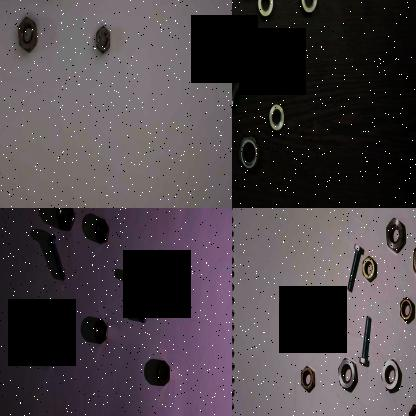Bolts: (136, 274, 158, 330), (46, 230, 66, 288), (344, 242, 364, 295), (156, 262, 177, 312), (358, 312, 374, 370), (232, 74, 246, 110), (257, 26, 266, 78), (232, 32, 239, 75)
NUTS: (14, 10, 40, 62), (37, 324, 61, 368), (235, 134, 260, 174), (380, 355, 402, 396), (384, 216, 406, 254), (337, 354, 357, 394), (267, 101, 288, 136), (95, 22, 112, 64), (52, 208, 77, 235), (92, 212, 110, 248), (92, 311, 110, 347), (156, 356, 172, 390), (328, 305, 344, 336), (361, 254, 377, 284), (298, 362, 314, 392), (274, 36, 290, 64), (398, 296, 414, 324), (253, 0, 276, 19), (298, 0, 320, 16), (405, 403, 416, 416)
